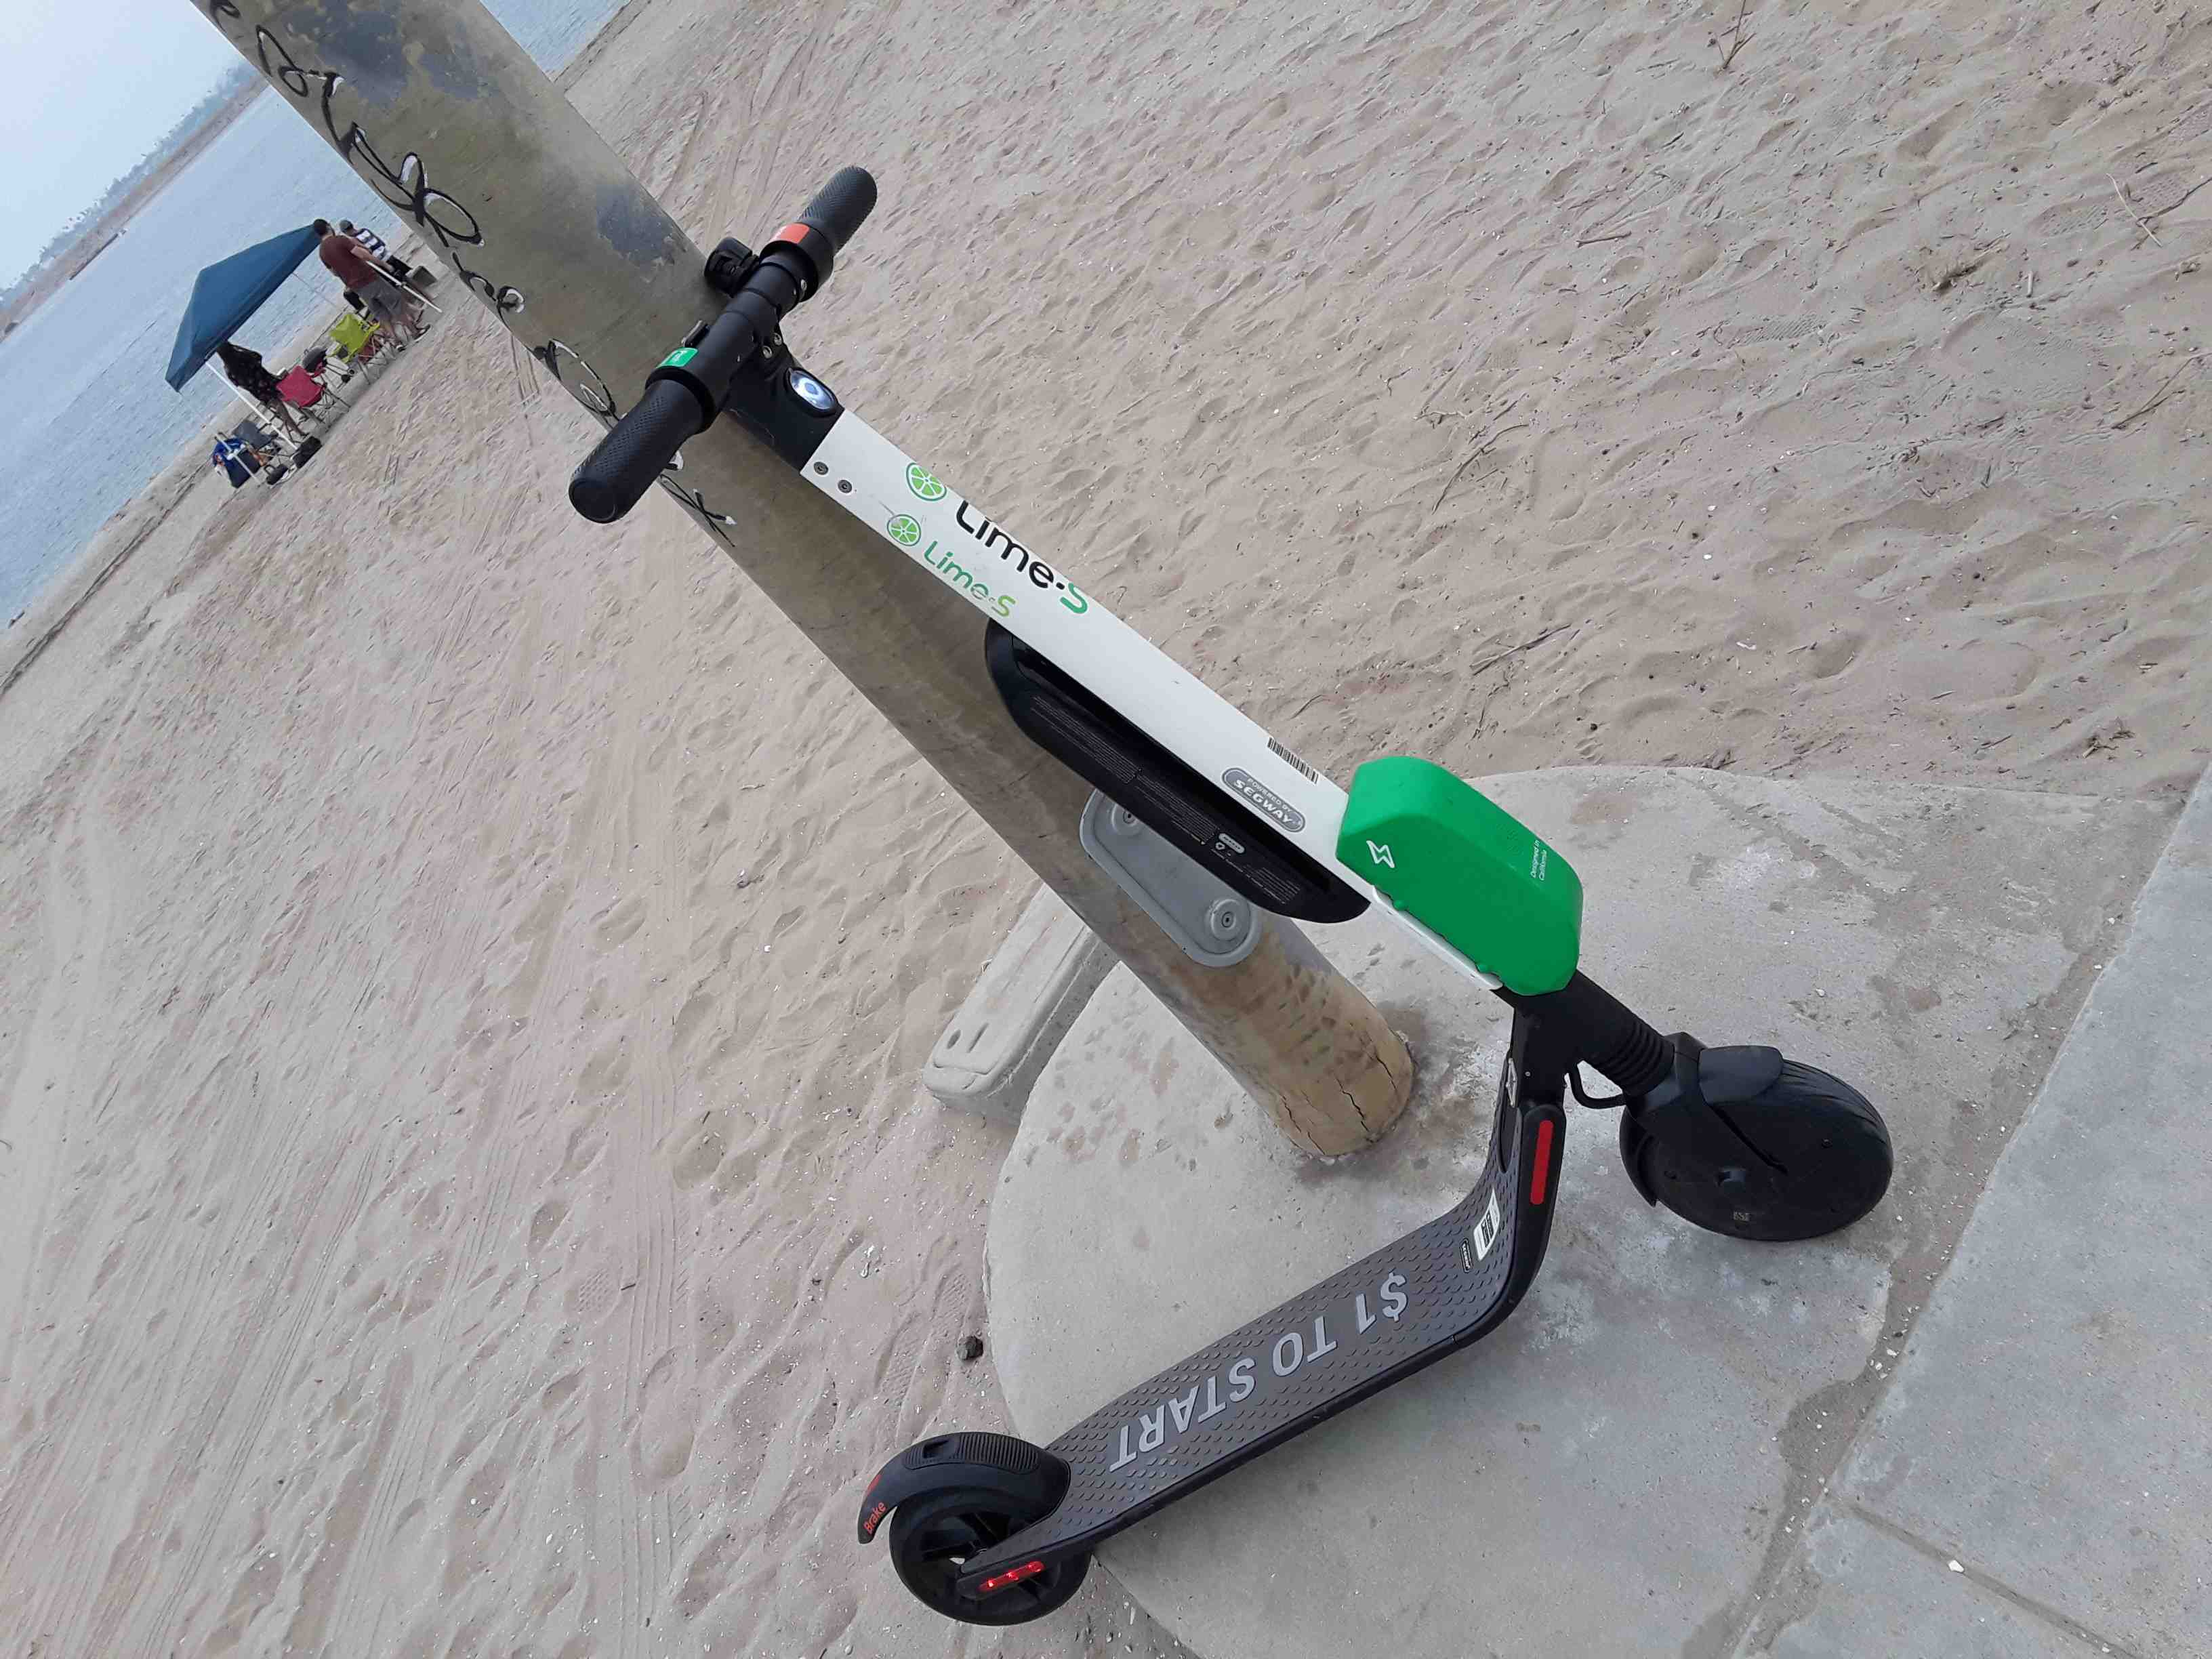scooter: (577, 153, 1888, 1650)
